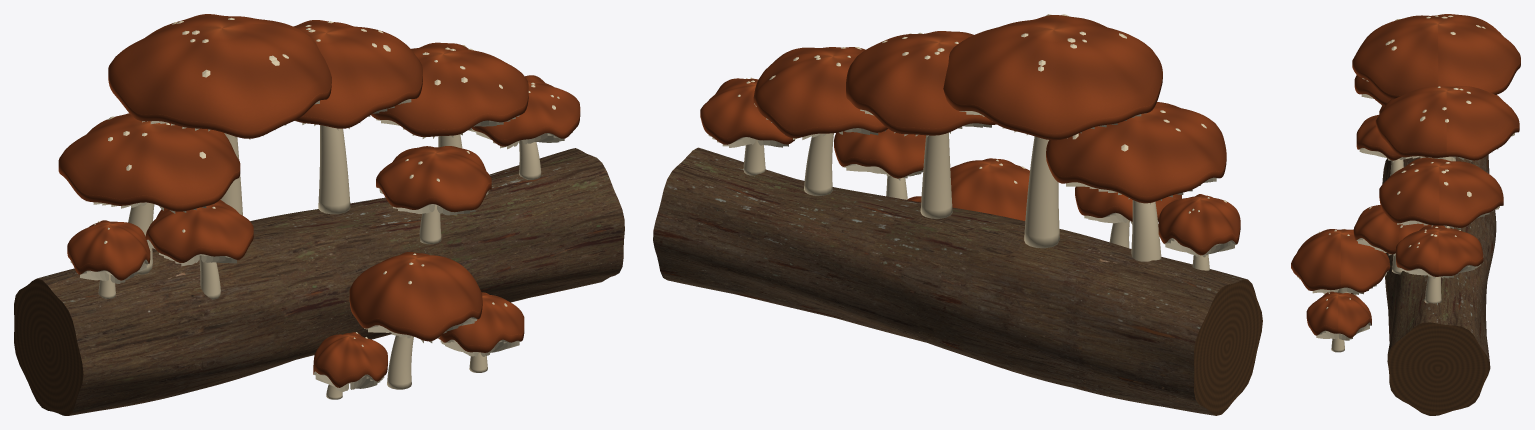
Rendered from mushroom_colony_LOD0.glb.
3 views of the same model, side by side, from view 1: azimuth 30°, elevation 25°; view 2: azimuth 150°, elevation 25°; view 3: azimuth 270°, elevation 25° (orthographic). The views are drawn at different scales.
Visible parts, largest first — view 1: mushroom_colony | material-batched export; view 2: mushroom_colony | material-batched export; view 3: mushroom_colony | material-batched export.
Boxes of the visible parts, x1,y1,x2,y2 form: mushroom_colony | material-batched export: (14, 14, 624, 415); mushroom_colony | material-batched export: (653, 14, 1262, 415); mushroom_colony | material-batched export: (1291, 14, 1520, 415).
Bounding box in the file's own units: 1.52 × 0.9244 × 0.7385.
Materials: 6 (3 with a texture image).
